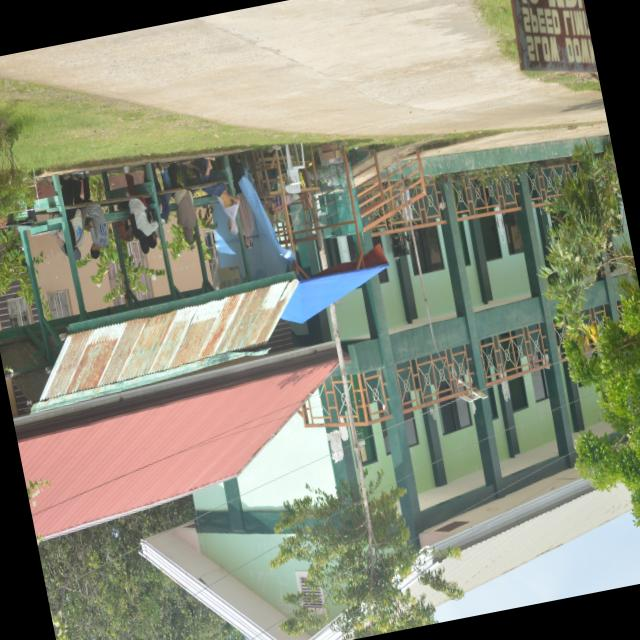person: (203, 182, 240, 234), (129, 196, 158, 249), (85, 204, 109, 258), (173, 188, 197, 242)
